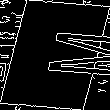M_W: (4, 29, 106, 81)
